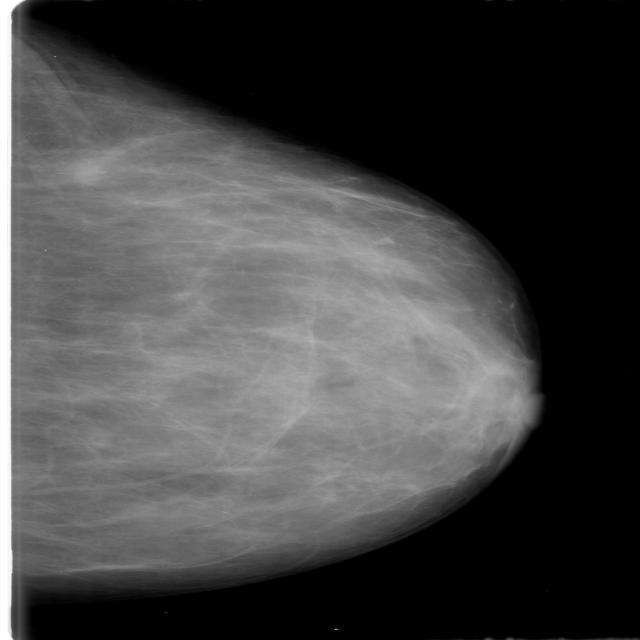normal: (0, 0, 559, 591)
